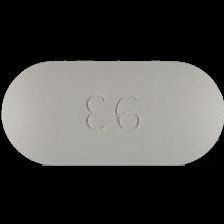66116-507: (0, 0, 224, 224)
